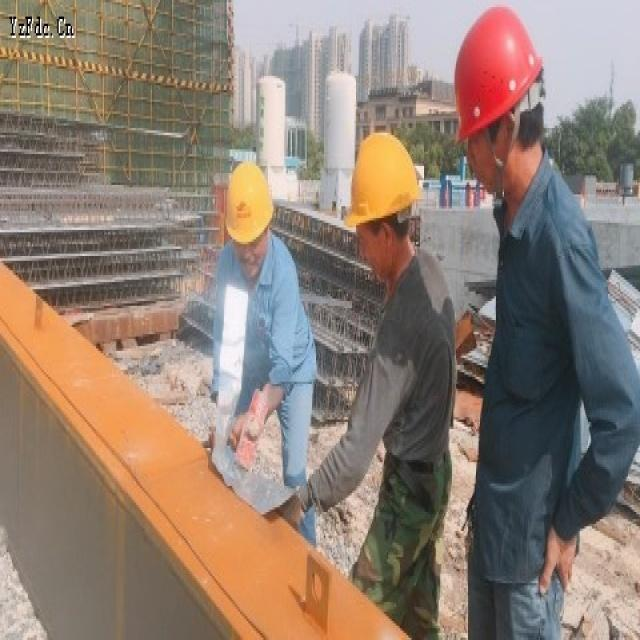helmet: (448, 4, 551, 272), (346, 173, 425, 376), (223, 215, 275, 373)
